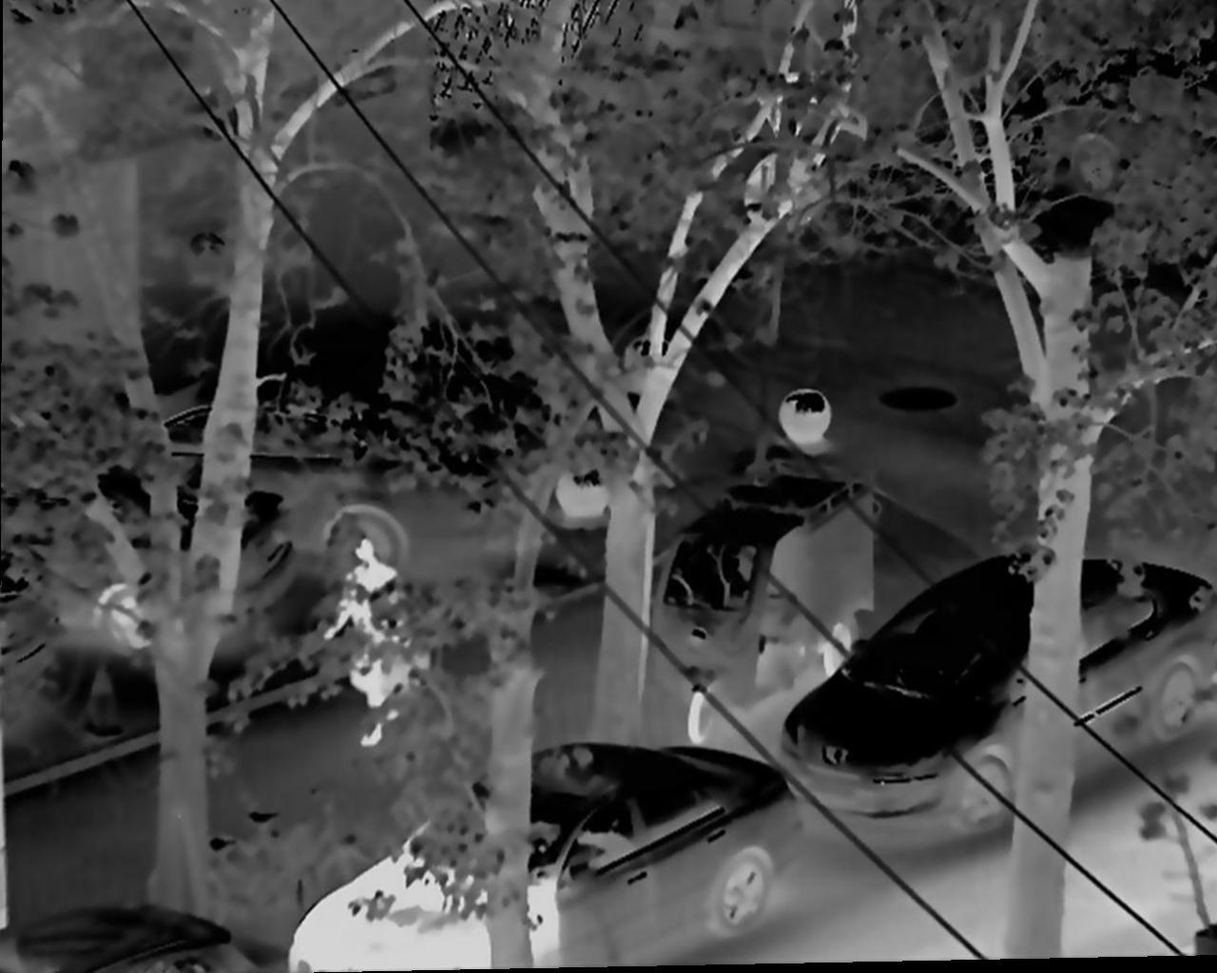person: (321, 538, 428, 750)
